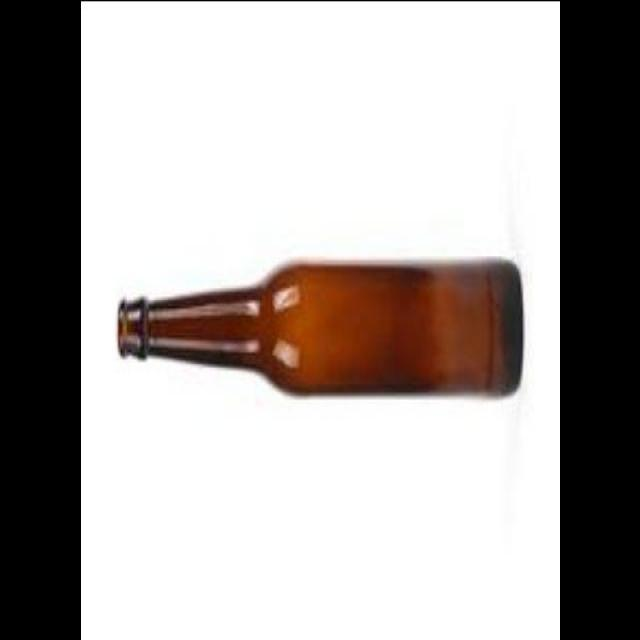Glass: (113, 254, 525, 402)
